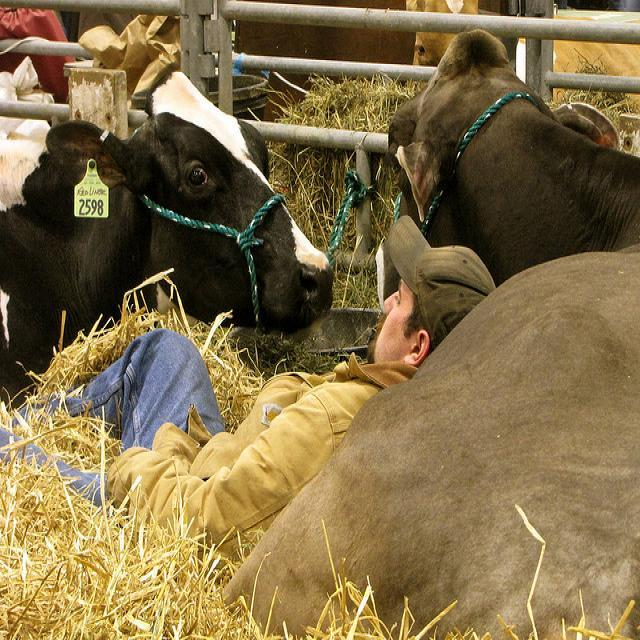cow: (221, 33, 639, 627), (0, 55, 334, 404), (407, 0, 639, 84)
